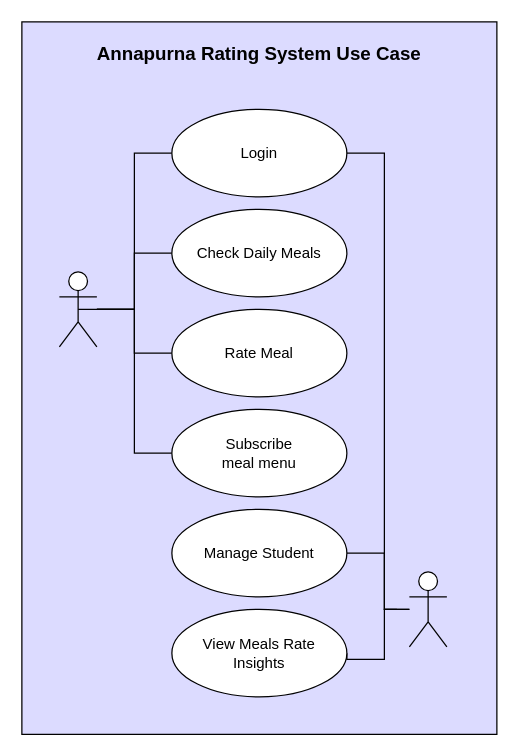
Some shapes in this 519 by 756 pixel diagram are drawn without their labels. Each missing label, with the centre of its shape:
"Admin" goes at pixel 427 609.
"Student" goes at pixel 77 309.
